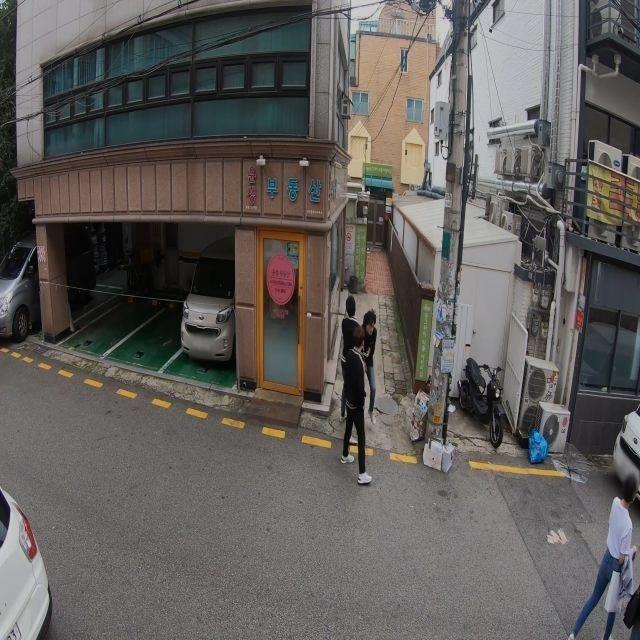fight: (330, 297, 388, 427)
non-fight: (335, 323, 381, 487)
